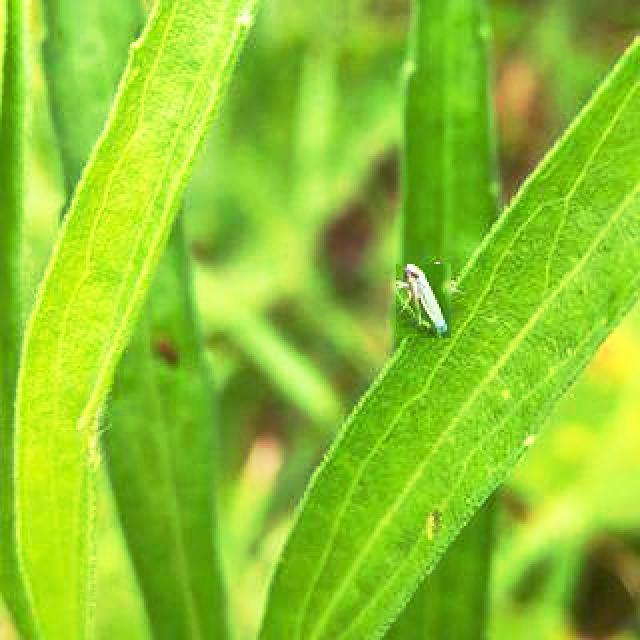green-leafhopper: (396, 264, 451, 338)
